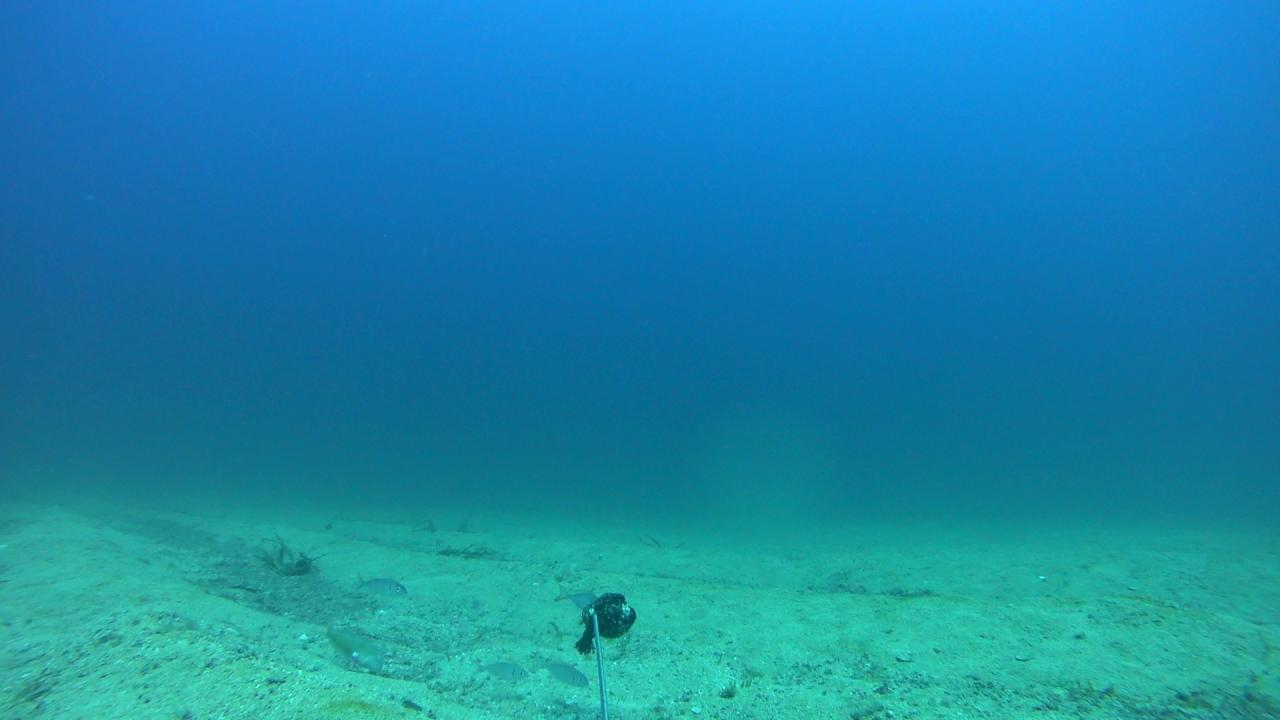pagellus: (354, 569, 410, 600), (539, 655, 585, 687), (475, 660, 527, 679)
